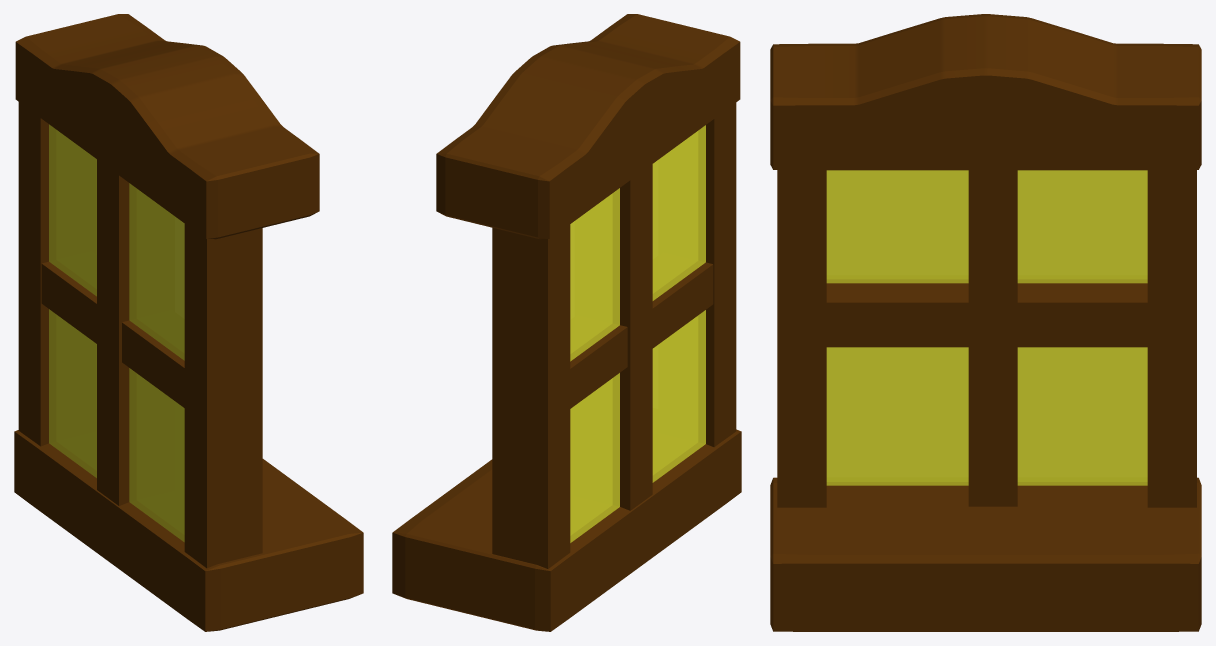
The model's file is Window.fbx.
3 views of the same model, side by side, from view 1: azimuth 30°, elevation 25°; view 2: azimuth 150°, elevation 25°; view 3: azimuth 270°, elevation 25° (orthographic). The views are drawn at different scales.
Visible parts, largest first — view 1: polySurface189, polySurface193, pCube132, polySurface188, polySurface196, polySurface192, polySurface200; view 2: polySurface189, polySurface193, pCube132, polySurface192, polySurface196, polySurface188, polySurface200; view 3: pCube132, polySurface193, polySurface189, polySurface200, polySurface188, polySurface192, polySurface196.
Part boxes in pixels (<box>): polySurface189: <box>15,14,319,239</box>; polySurface193: <box>14,430,363,631</box>; pCube132: <box>49,124,184,542</box>; polySurface188: <box>184,224,262,568</box>; polySurface196: <box>97,159,129,505</box>; polySurface192: <box>18,102,48,446</box>; polySurface200: <box>41,261,184,407</box>; polySurface189: <box>436,14,740,239</box>; polySurface193: <box>392,429,741,631</box>; pCube132: <box>570,125,705,542</box>; polySurface192: <box>492,224,570,568</box>; polySurface196: <box>620,164,652,510</box>; polySurface188: <box>706,103,736,446</box>; polySurface200: <box>570,262,713,408</box>; pCube132: <box>826,170,1147,485</box>; polySurface193: <box>770,477,1201,631</box>; polySurface189: <box>770,14,1201,170</box>; polySurface200: <box>826,283,1147,347</box>; polySurface188: <box>777,170,826,507</box>; polySurface192: <box>1147,170,1196,507</box>; polySurface196: <box>968,170,1017,506</box>.
Size of the model in its own units: 1.92 by 5.58 by 4.06.
